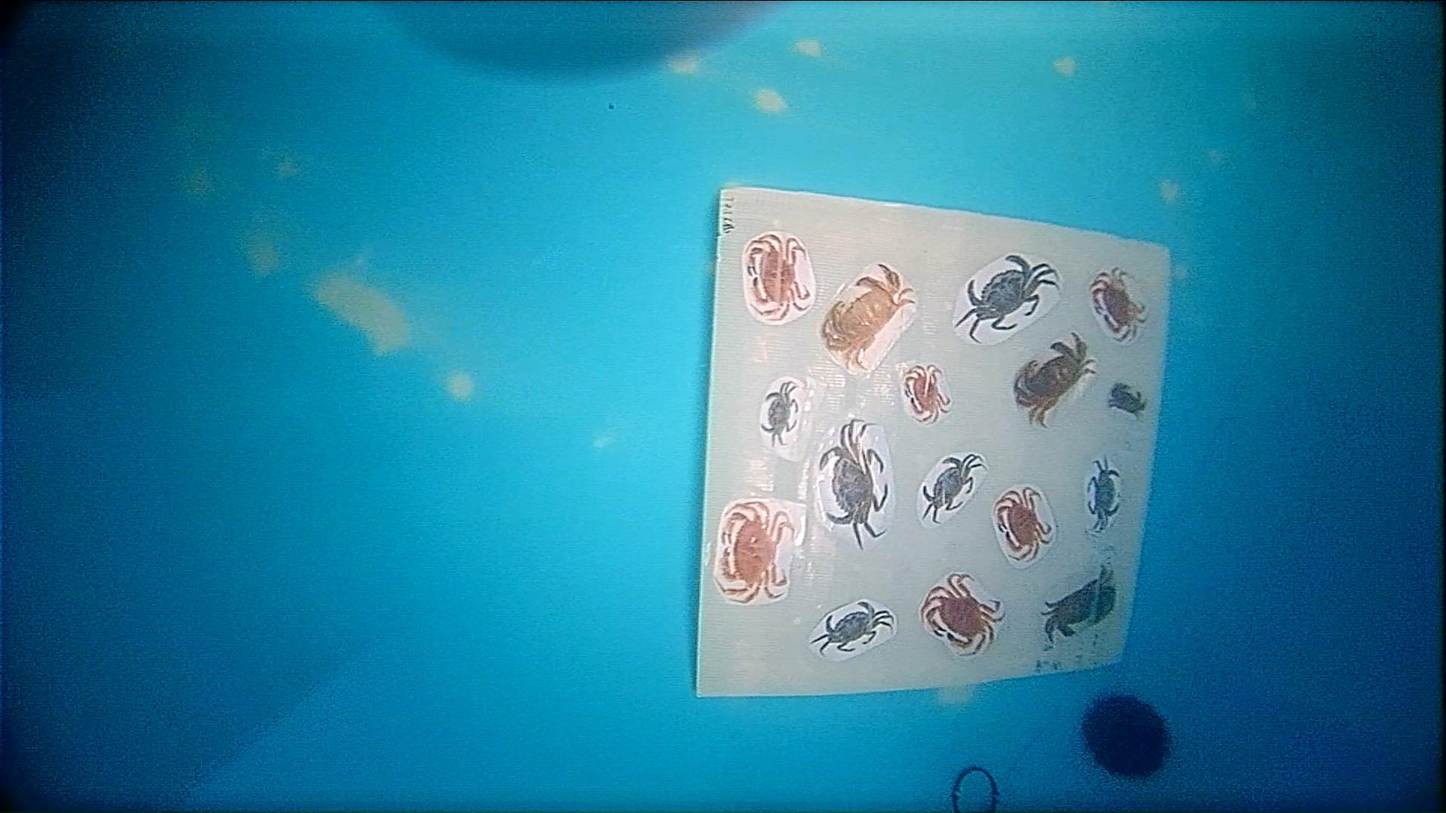GreenCrab: (955, 254, 1057, 339), (820, 419, 887, 548), (810, 601, 892, 654), (921, 454, 983, 523), (760, 382, 798, 445)
